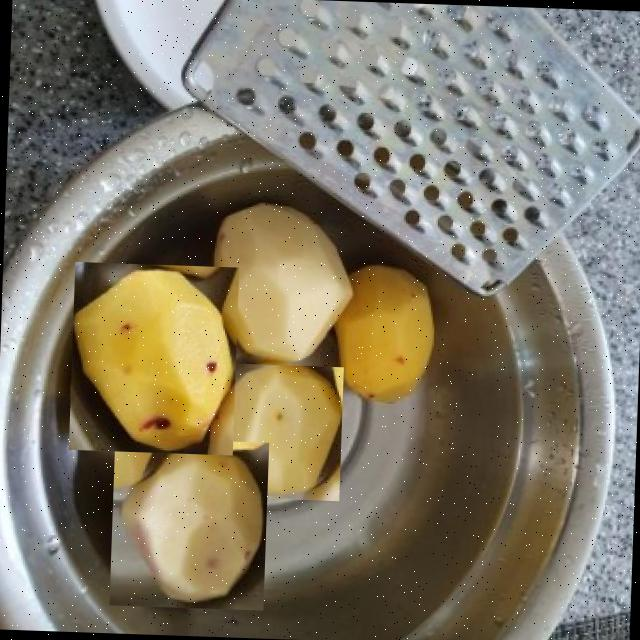Potato: (68, 261, 238, 455), (108, 437, 268, 610), (201, 201, 357, 368), (214, 362, 342, 500), (329, 262, 442, 412)
